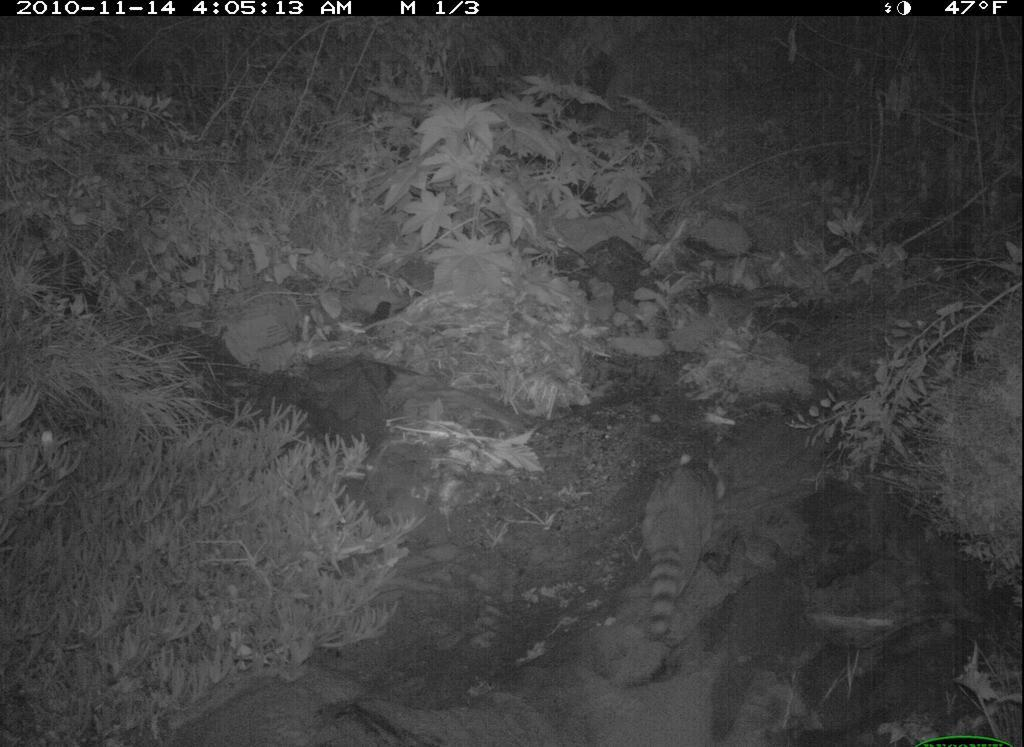raccoon: (633, 442, 743, 639)
